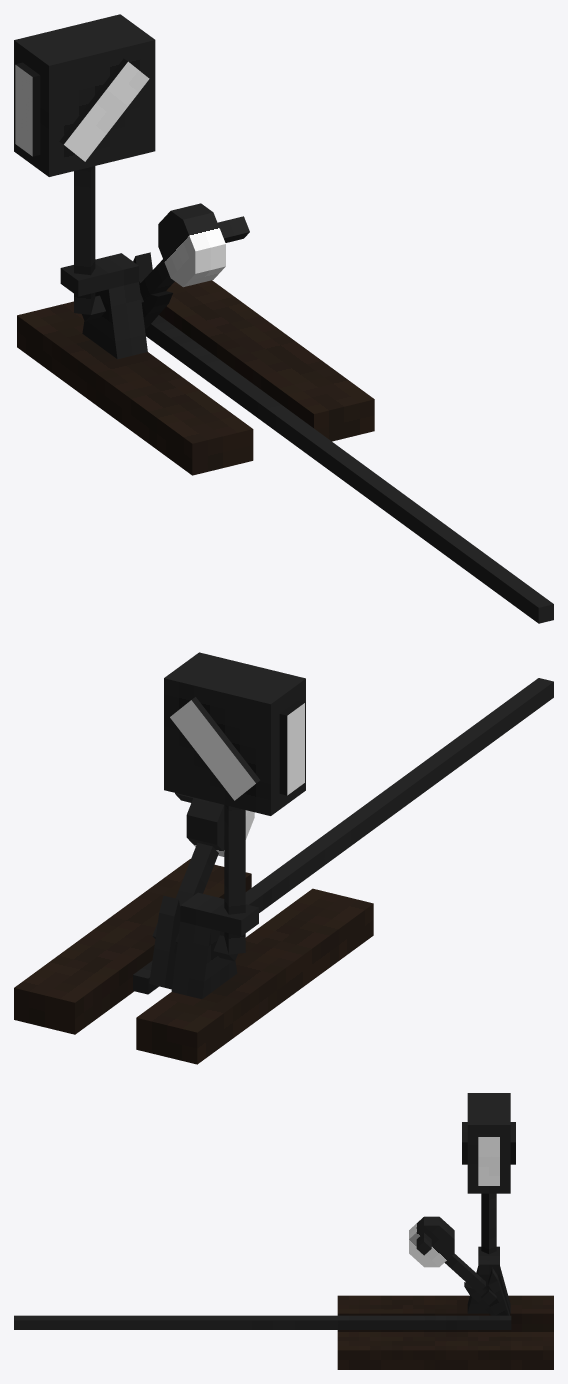
The model's file is right_side_right_turn_off.obj.
3 renders of one model, top to bottom at view 1: azimuth 30°, elevation 25°; view 2: azimuth 150°, elevation 25°; view 3: azimuth 270°, elevation 25°, orthographic. The views are drawn at different scales.
Parts seen in each view (by area): view 1: base; view 2: base; view 3: base.
Part boxes in pixels (x1,y1,x2,y2): base: [14, 14, 553, 623]; base: [14, 652, 553, 1064]; base: [14, 1093, 553, 1369].
Bounding box in the file's own units: 0.9375 × 1.34 × 3.12.
Materials: 1 (1 with a texture image).
